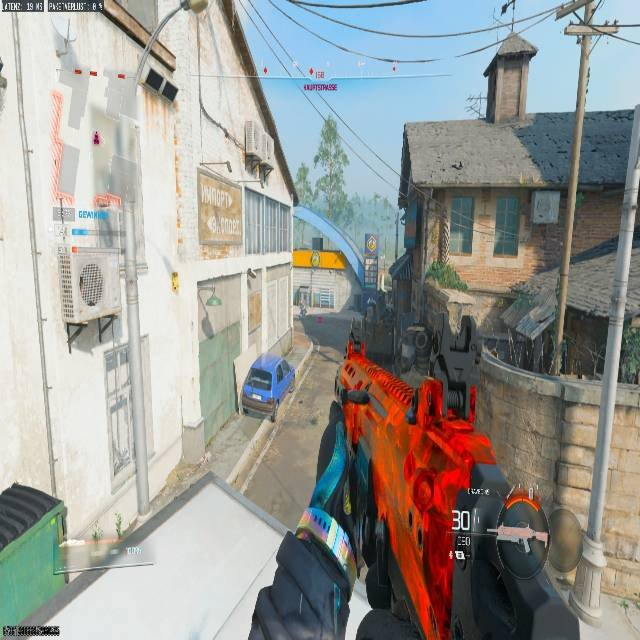head: (345, 335, 367, 362)
player: (364, 234, 379, 276), (298, 300, 307, 317)
